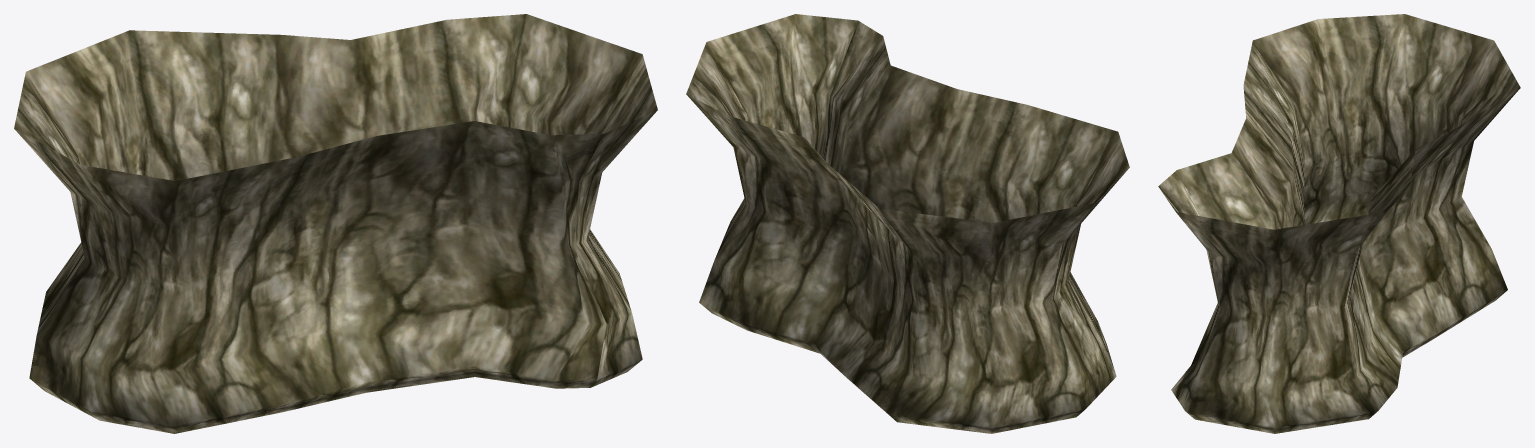
File: CB_NEWPLAYSURFACE_CB_PLAYSURFACE49.obj
3 renders of one model, left to right at view 1: azimuth 30°, elevation 25°; view 2: azimuth 150°, elevation 25°; view 3: azimuth 270°, elevation 25°, orthographic. The views are drawn at different scales.
Parts seen in each view (by area): view 1: B_playsurface49; view 2: B_playsurface49; view 3: B_playsurface49.
Boxes of the visible parts, bbox=[...] form: B_playsurface49: bbox=[14, 14, 657, 433]; B_playsurface49: bbox=[686, 14, 1129, 433]; B_playsurface49: bbox=[1158, 14, 1520, 433].
Size of the model in its own units: 1428 by 664 by 1014.
